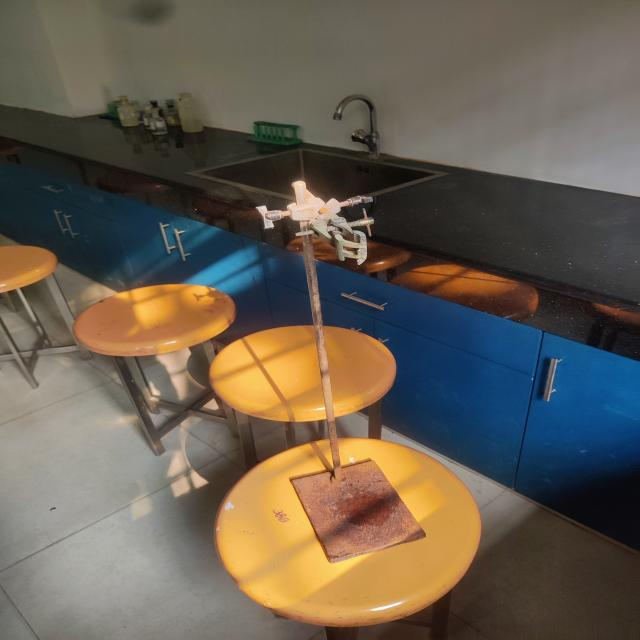Burette_Stands: (203, 138, 468, 587)
